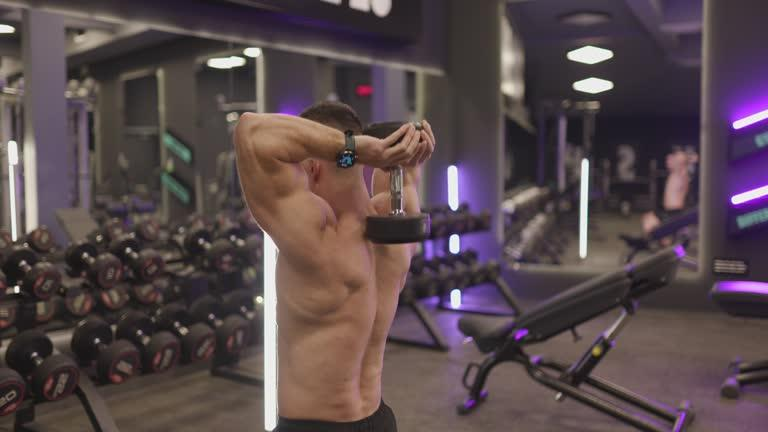no_helmet: (282, 138, 386, 189)
none: (246, 164, 412, 334)
